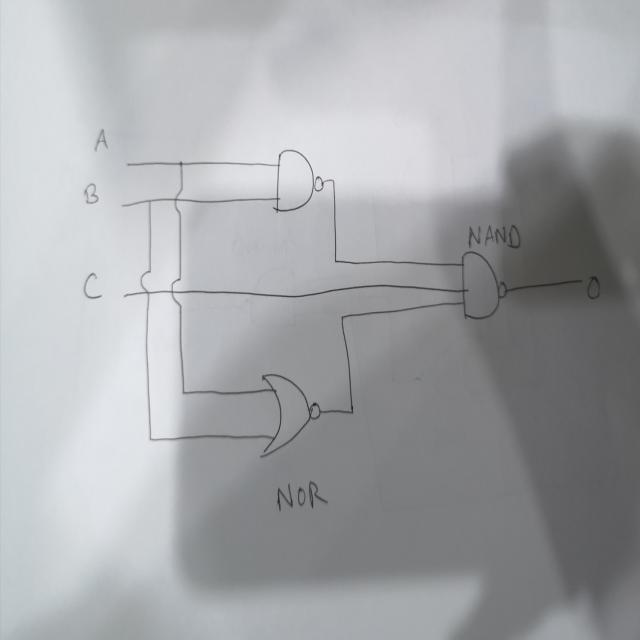crossover: (167, 272, 183, 310), (138, 266, 154, 300), (171, 185, 185, 213)
junction: (345, 399, 357, 421), (338, 308, 348, 324), (331, 255, 339, 266), (180, 386, 187, 398), (146, 196, 154, 205), (177, 158, 184, 168), (147, 433, 153, 443), (330, 175, 336, 185)
terminal: (576, 274, 584, 286), (122, 290, 130, 300), (124, 159, 131, 170), (118, 201, 125, 210)
text: (276, 479, 329, 515), (466, 220, 522, 251), (82, 269, 104, 303), (82, 180, 100, 206), (93, 124, 108, 152), (586, 274, 601, 300)
